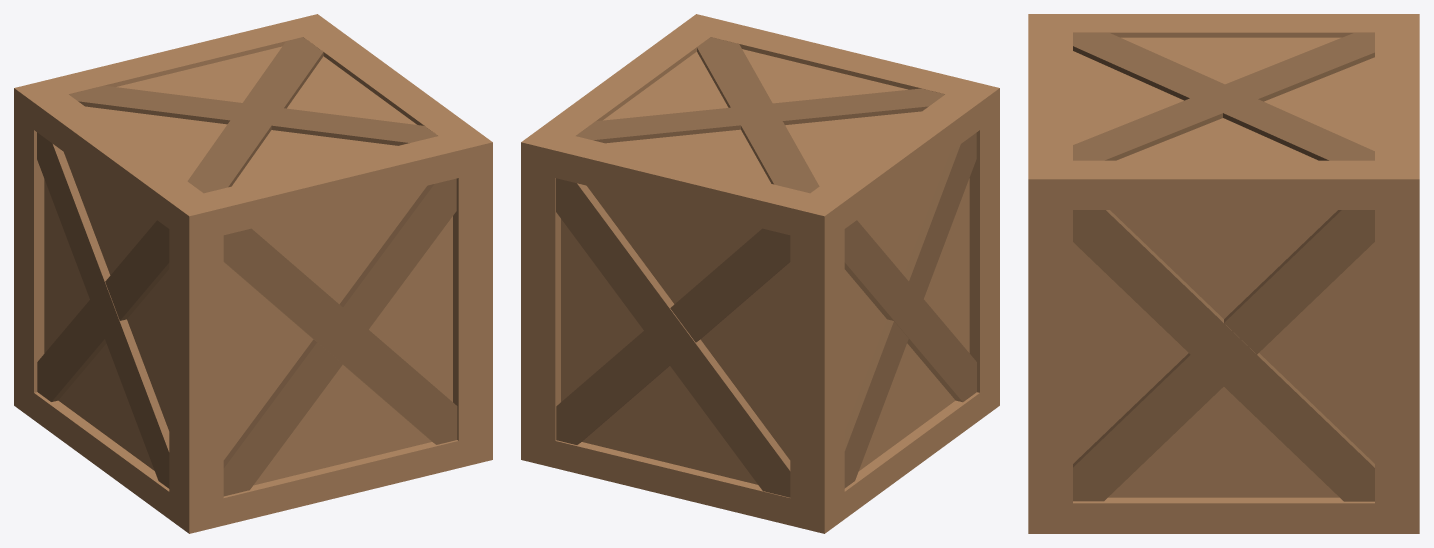
Rendered from wood_crate.fbx.
3 renders of one model, left to right at view 1: azimuth 30°, elevation 25°; view 2: azimuth 150°, elevation 25°; view 3: azimuth 270°, elevation 25°, orthographic. The views are drawn at different scales.
Visible parts, largest first — view 1: Cube, Cube_cell.001, Cube_cell.002, Cube_cell.003, Cube.008, Cube_cell.004, Cube.002, Cube_cell, Cube.005, Cube.002_cell, Cube.003, Cube.008_cell.002_cell (+8 smaller); view 2: Cube, Cube_cell, Cube_cell.002, Cube.004, Cube_cell.004, Cube.007, Cube.005, Cube_cell.003, Cube_cell.001, Cube.003, Cube.008_cell.003_cell, Cube.007_cell.001 (+9 smaller); view 3: Cube, Cube_cell.002, Cube_cell.001, Cube.001, Cube.006, Cube.006_cell, Cube.008_cell.002_cell, Cube.008_cell.003_cell.001, Cube.008_cell.003_cell, Cube.008_cell.002, Cube.001_cell.001, Cube.008_cell.002_cell.001 (+5 smaller).
Part boxes in pixels (x1=…): Cube: x1=14, y1=52, x2=492, y2=533; Cube_cell.001: x1=142, y1=143, x2=492, y2=533; Cube_cell.002: x1=14, y1=14, x2=423, y2=139; Cube_cell.003: x1=88, y1=139, x2=338, y2=404; Cube.008: x1=223, y1=178, x2=456, y2=496; Cube_cell.004: x1=14, y1=90, x2=140, y2=388; Cube.002: x1=223, y1=229, x2=457, y2=444; Cube_cell: x1=14, y1=312, x2=143, y2=497; Cube.005: x1=37, y1=220, x2=169, y2=401; Cube.002_cell: x1=223, y1=228, x2=356, y2=352; Cube.003: x1=37, y1=132, x2=146, y2=418; Cube.008_cell.002_cell: x1=253, y1=107, x2=437, y2=145; Cube: x1=521, y1=14, x2=999, y2=500; Cube_cell: x1=521, y1=367, x2=945, y2=533; Cube_cell.002: x1=521, y1=64, x2=868, y2=330; Cube.004: x1=556, y1=178, x2=790, y2=497; Cube_cell.004: x1=669, y1=155, x2=931, y2=438; Cube.007: x1=556, y1=228, x2=790, y2=444; Cube.005: x1=844, y1=132, x2=976, y2=488; Cube_cell.003: x1=869, y1=117, x2=999, y2=288; Cube_cell.001: x1=739, y1=44, x2=992, y2=439; Cube.003: x1=844, y1=220, x2=974, y2=402; Cube.008_cell.003_cell: x1=577, y1=96, x2=942, y2=143; Cube.007_cell.001: x1=560, y1=228, x2=790, y2=402; Cube: x1=1028, y1=14, x2=1419, y2=533; Cube_cell.002: x1=1181, y1=14, x2=1419, y2=471; Cube_cell.001: x1=1028, y1=179, x2=1310, y2=533; Cube.001: x1=1073, y1=210, x2=1374, y2=501; Cube.006: x1=1073, y1=210, x2=1374, y2=501; Cube.006_cell: x1=1224, y1=210, x2=1374, y2=354; Cube.008_cell.002_cell: x1=1073, y1=93, x2=1237, y2=160; Cube.008_cell.003_cell.001: x1=1073, y1=33, x2=1357, y2=160; Cube.008_cell.003_cell: x1=1078, y1=33, x2=1374, y2=160; Cube.008_cell.002: x1=1075, y1=33, x2=1374, y2=160; Cube.001_cell.001: x1=1219, y1=340, x2=1374, y2=501; Cube.008_cell.002_cell.001: x1=1226, y1=42, x2=1374, y2=105.
Bounding box in the file's own units: 363 × 363 × 363.
